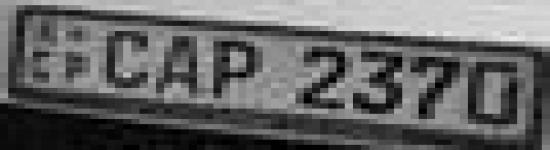0: (463, 53, 527, 136)
2: (288, 42, 349, 111)
3: (350, 46, 410, 120)
7: (412, 49, 463, 123)
A: (156, 28, 206, 99)
C: (104, 24, 156, 95), (23, 48, 61, 83)
P: (207, 36, 267, 101), (62, 46, 98, 84)
